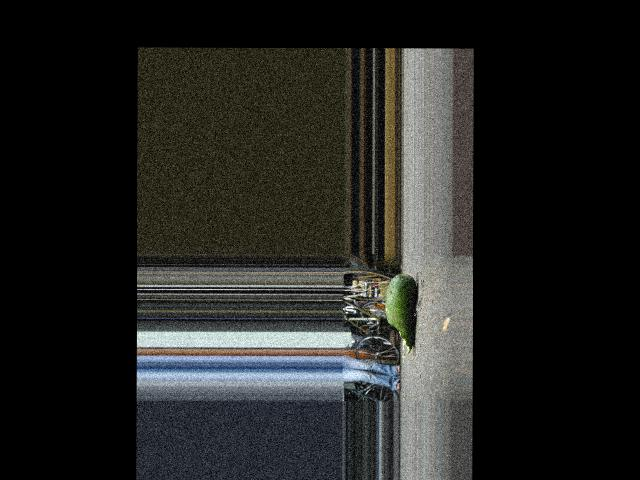cucumber: (385, 274, 416, 354)
